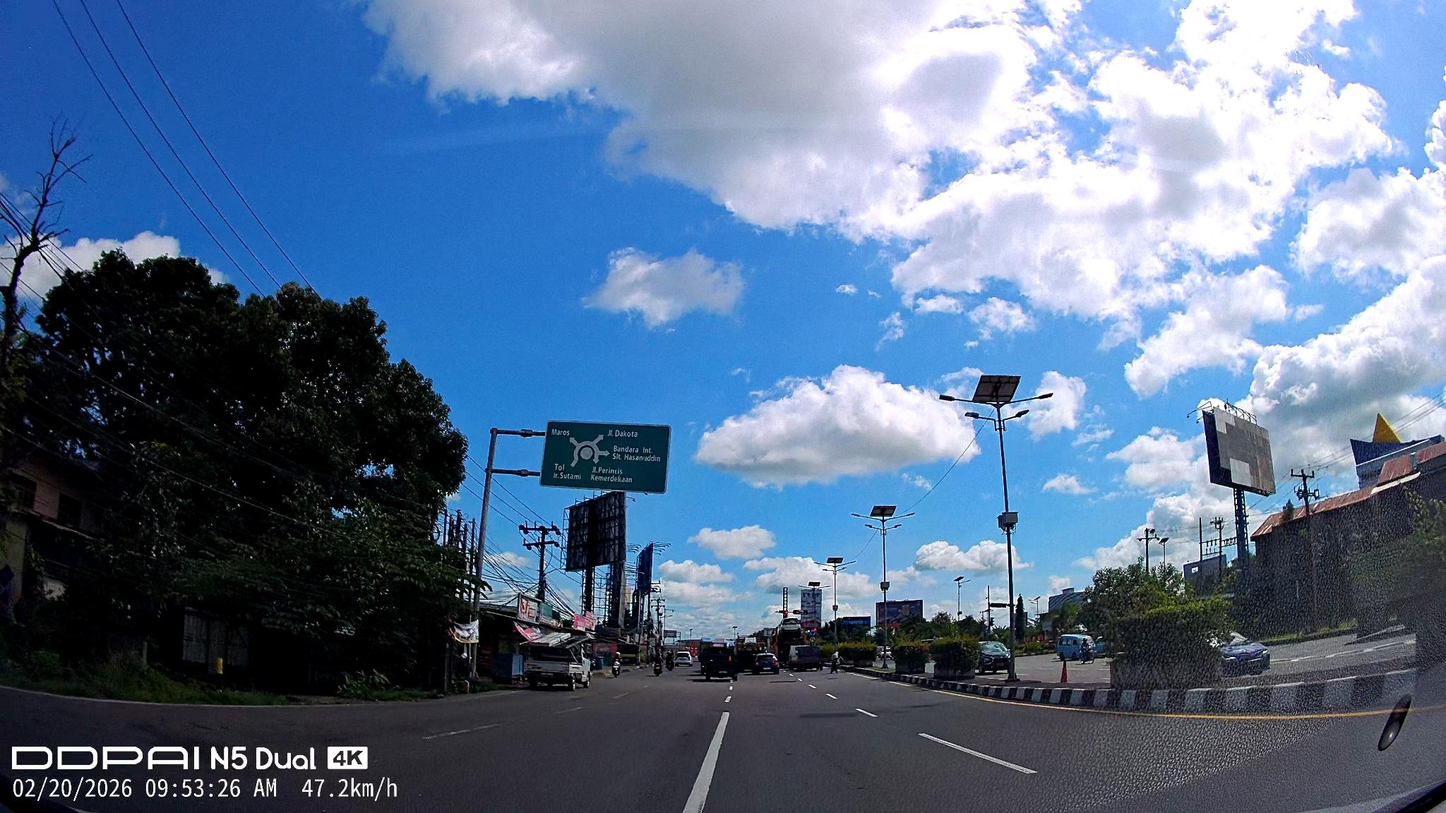rambu_teks: (539, 419, 671, 494)
